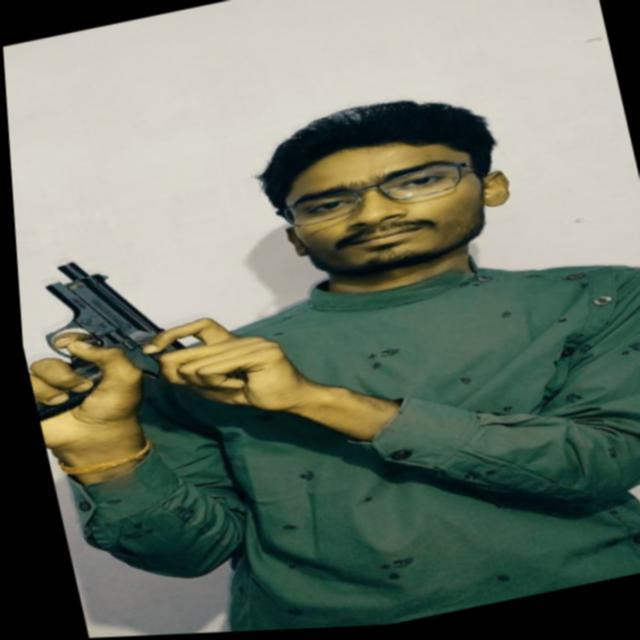weapon: (12, 220, 289, 439)
